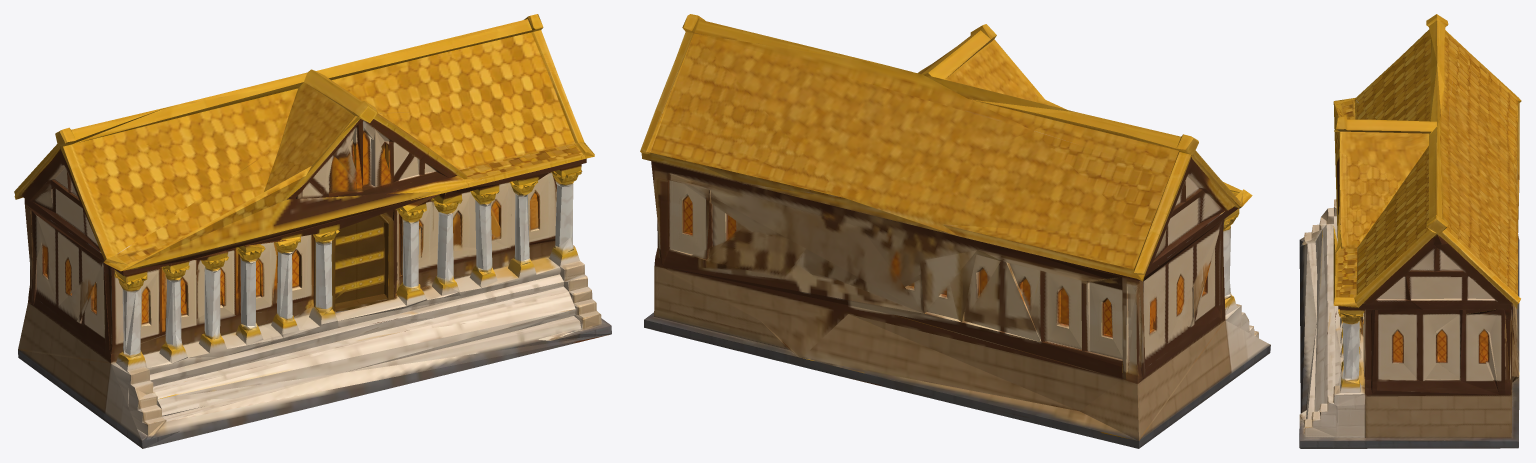
The model's file is TWN_STR_hall_A.glb.
3 views of the same model, side by side, from view 1: azimuth 30°, elevation 25°; view 2: azimuth 150°, elevation 25°; view 3: azimuth 270°, elevation 25° (orthographic). The views are drawn at different scales.
Visible parts, largest first — view 1: Mesh_0; view 2: Mesh_0; view 3: Mesh_0.
Part boxes in pixels (left/top/right/bottom): Mesh_0: left=14, top=14, right=611, bottom=448; Mesh_0: left=640, top=14, right=1270, bottom=448; Mesh_0: left=1299, top=14, right=1521, bottom=448.
Bounding box in the file's own units: 1.9 × 1.02 × 0.863.
Materials: 1 (1 with a texture image).
